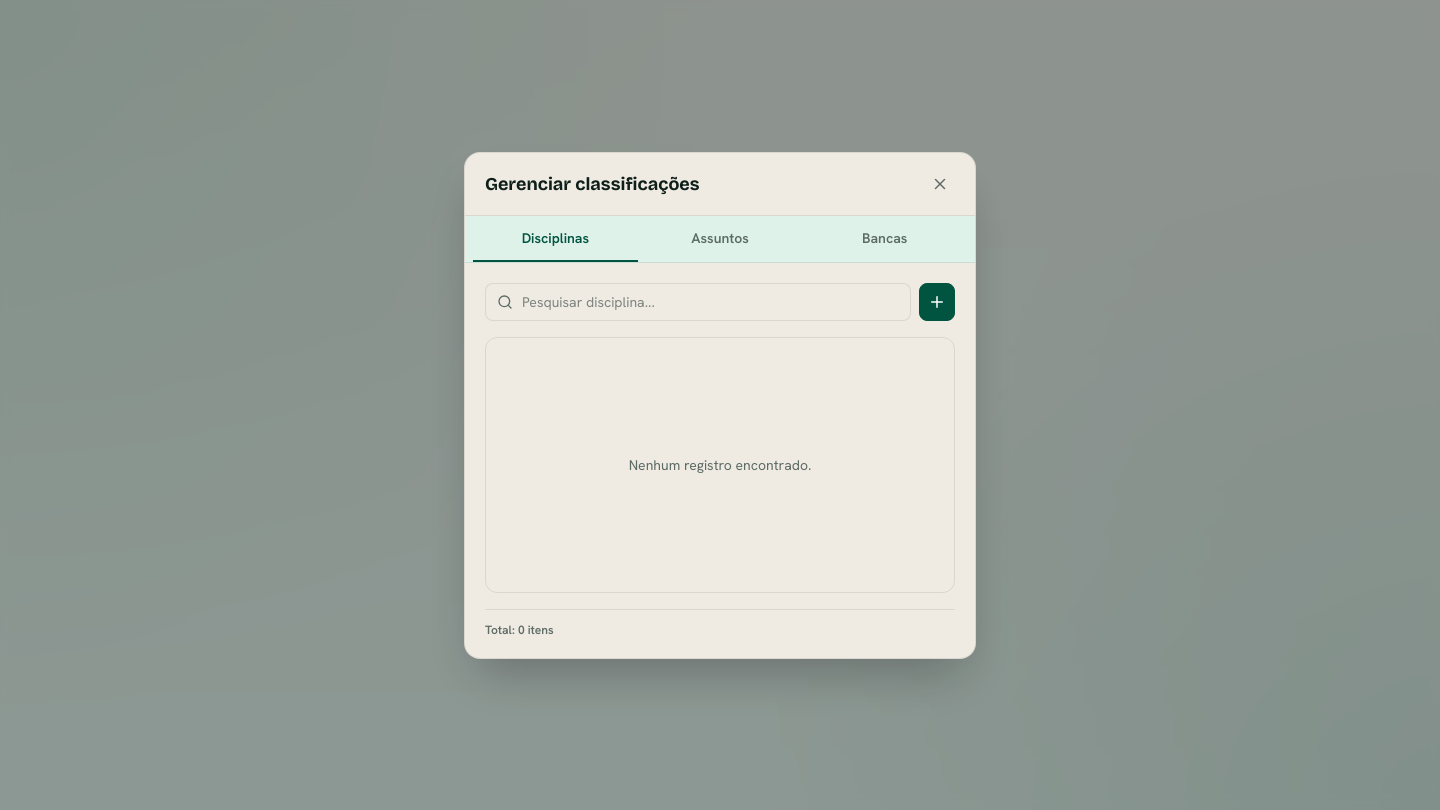
Test: ClassificationCatalogDialog unit tests › switches tabs to Bancas and fetches boards
Note: Switch to Bancas tab
Click the button "Bancas": (885, 238) left=802, top=216, right=967, bottom=262
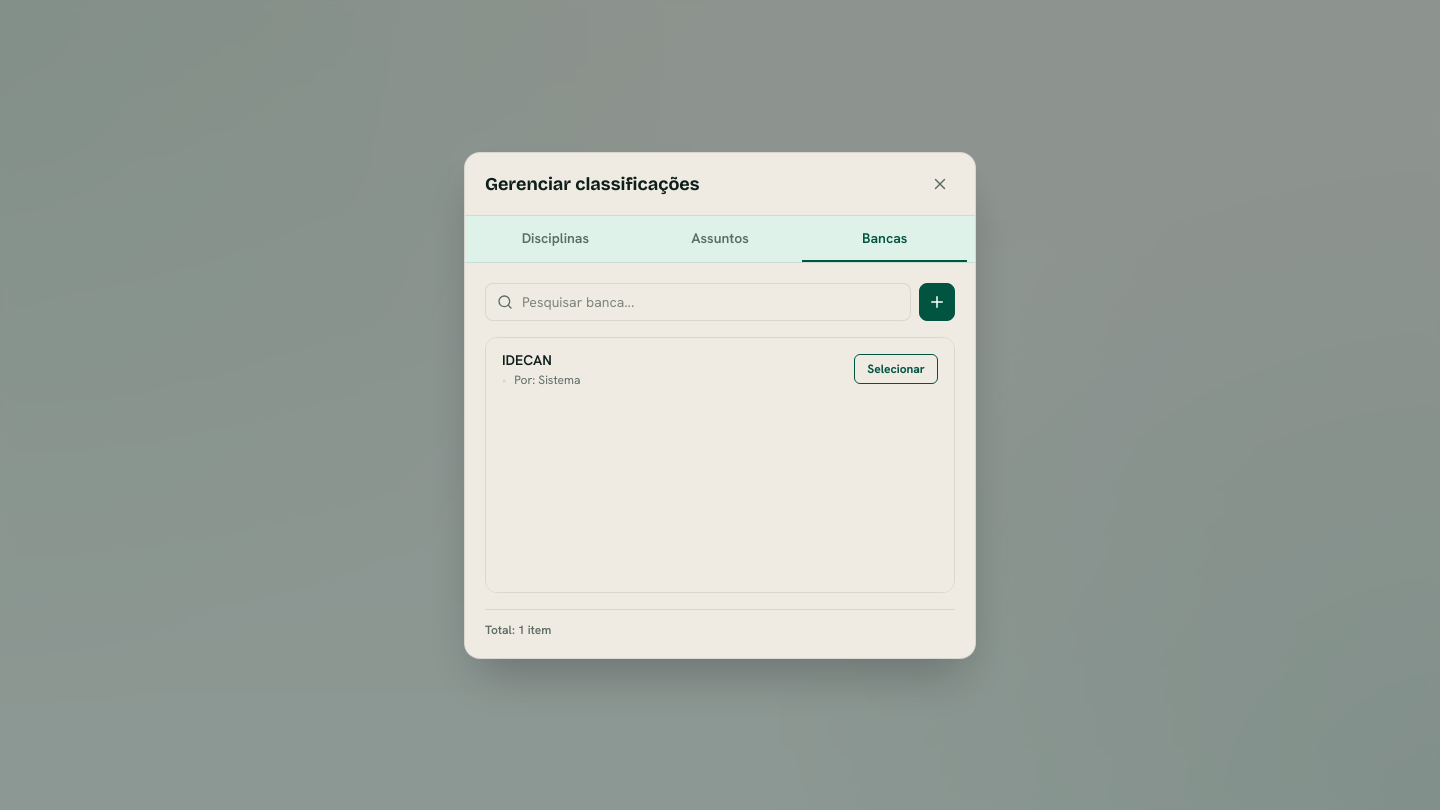
Now the text "IDECAN" is shown, box left=502, top=350, right=552, bottom=368
